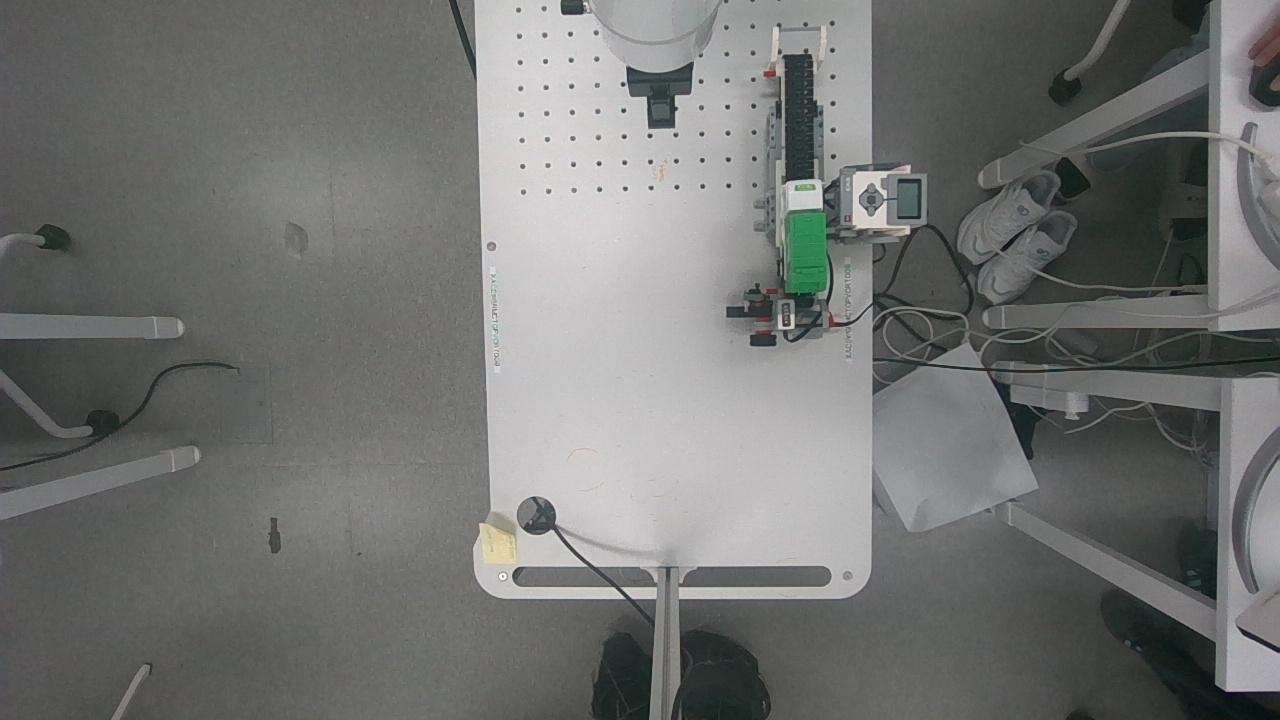truck: (774, 172, 836, 298)
